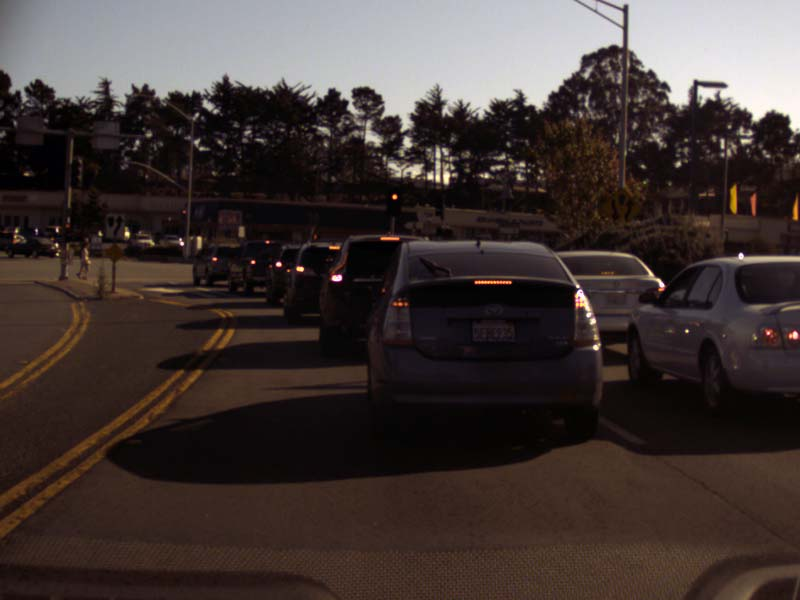Red: (386, 189, 400, 215), (312, 232, 320, 239), (181, 208, 186, 218)
